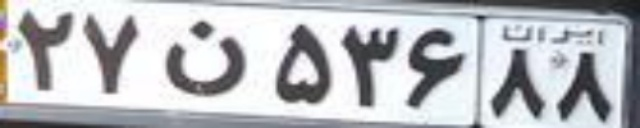2: (17, 9, 69, 91)
3: (340, 26, 398, 106)
5: (277, 23, 333, 103)
6: (405, 28, 464, 107)
7: (85, 11, 141, 95)
8: (488, 48, 545, 119), (555, 51, 611, 123)
non: (164, 19, 250, 96)
